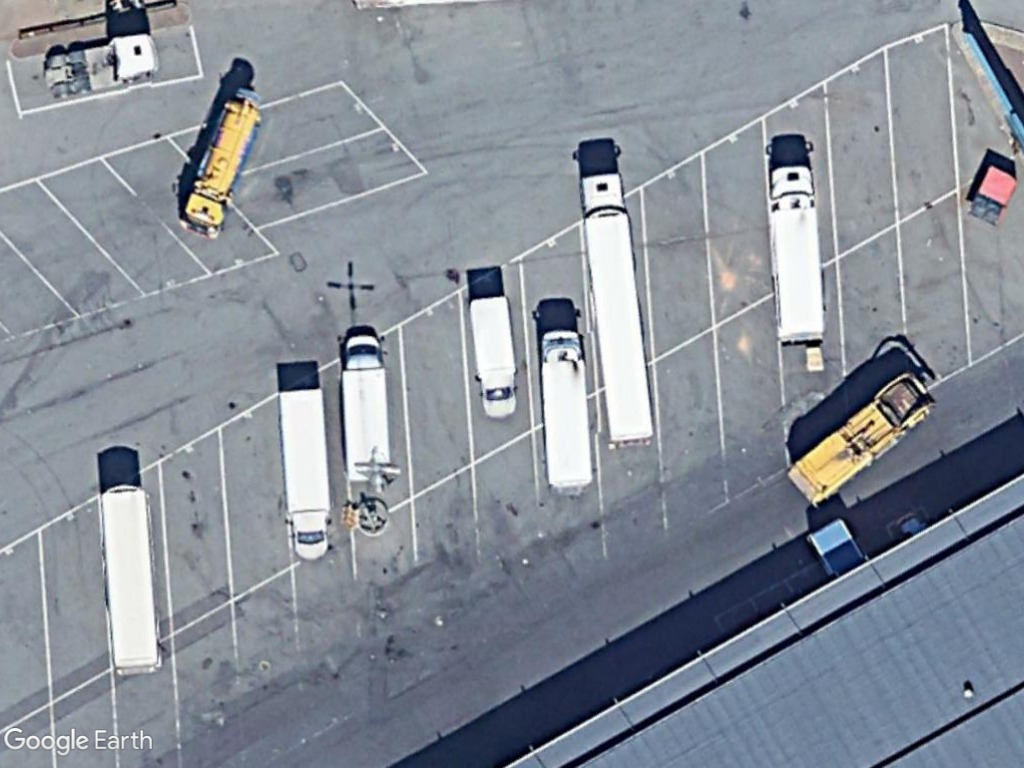longvehicle: (572, 166, 664, 457)
truck: (529, 325, 603, 508), (762, 156, 828, 351), (272, 384, 337, 567), (337, 328, 400, 482), (463, 290, 527, 424)
